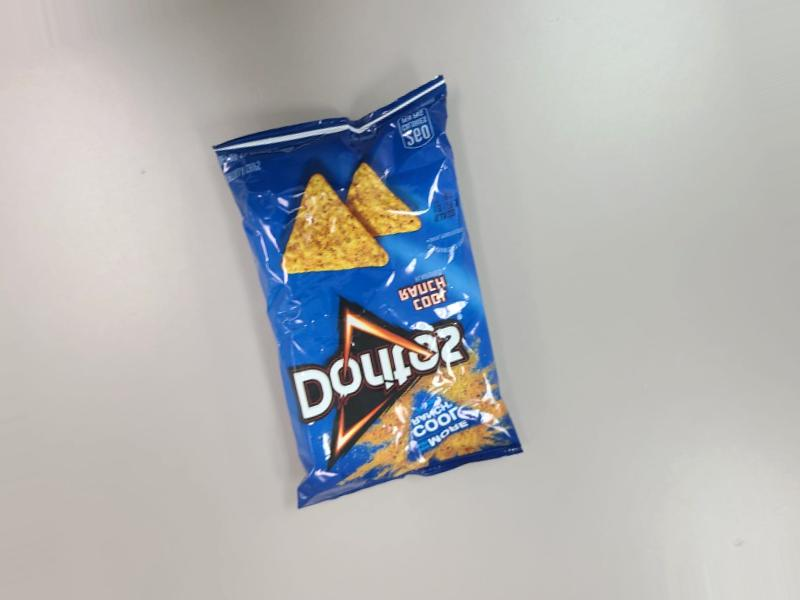doritos: (212, 90, 533, 519)
